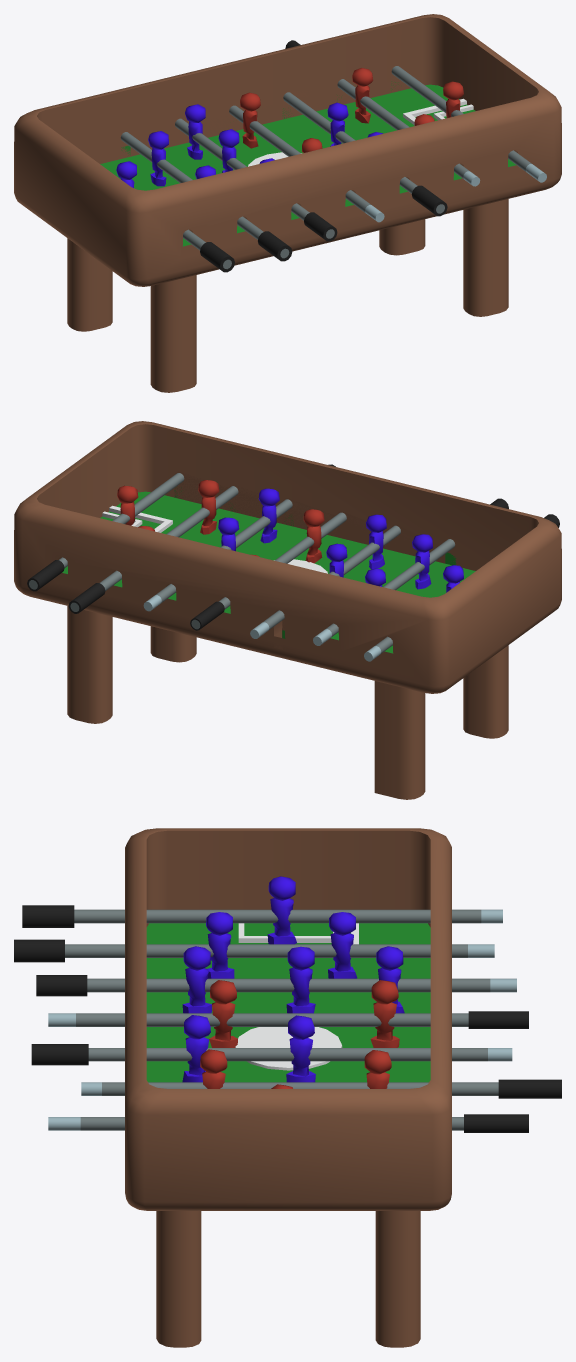
The model's file is Foosball-Table.fbx.
3 renders of one model, top to bottom at view 1: azimuth 30°, elevation 25°; view 2: azimuth 150°, elevation 25°; view 3: azimuth 270°, elevation 25°, orthographic. The views are drawn at different scales.
Visible parts, largest first — view 1: Foosball-Table; view 2: Foosball-Table; view 3: Foosball-Table.
Boxes of the visible parts, x1,y1,x2,y2 form: Foosball-Table: [14, 14, 561, 392]; Foosball-Table: [14, 421, 561, 799]; Foosball-Table: [14, 828, 561, 1347].
Size of the model in its own units: 2 by 0.9318 by 1.68.
